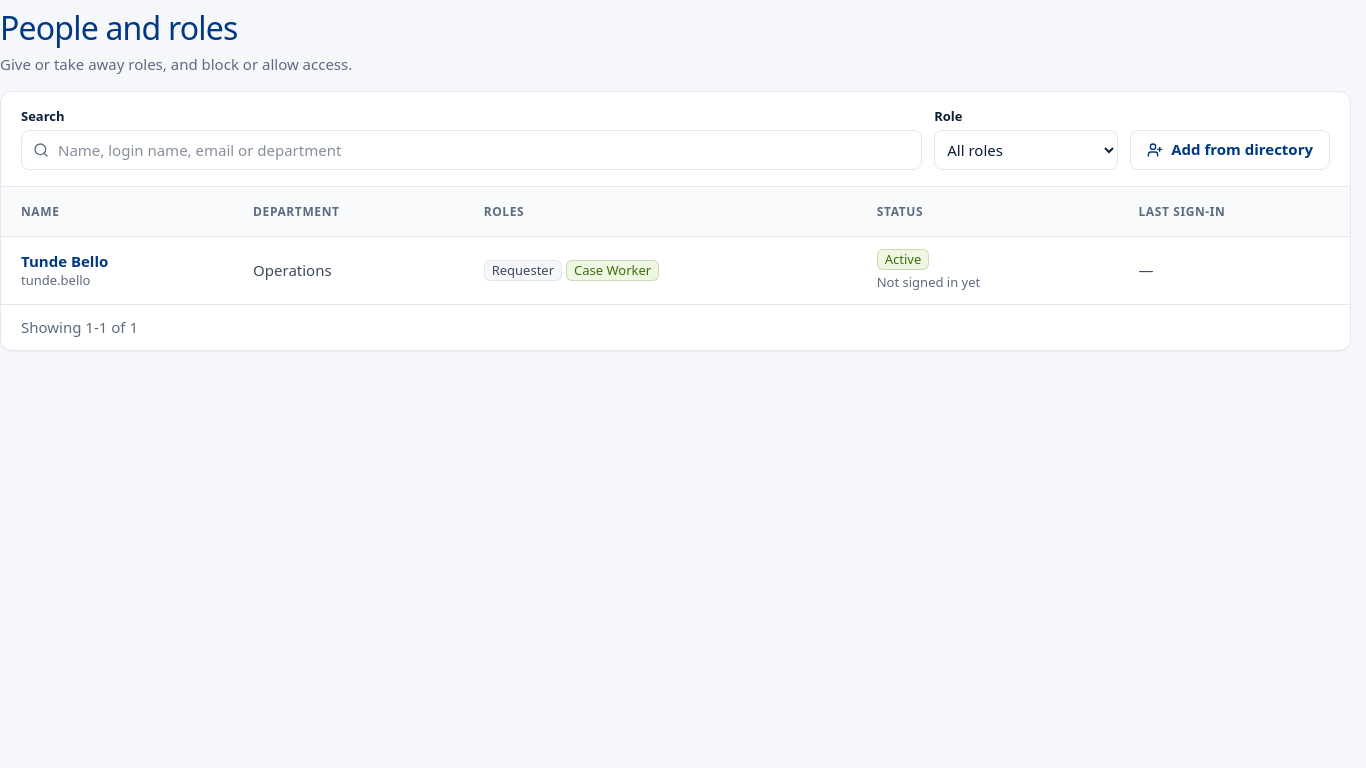
Test case: PeopleRolesPage › shows the directory's 503 message in the add dialog
This screenshot has width=1366, height=768.
Click the button "Add from directory". click: (1230, 150)
box: [1130,130,1330,170]
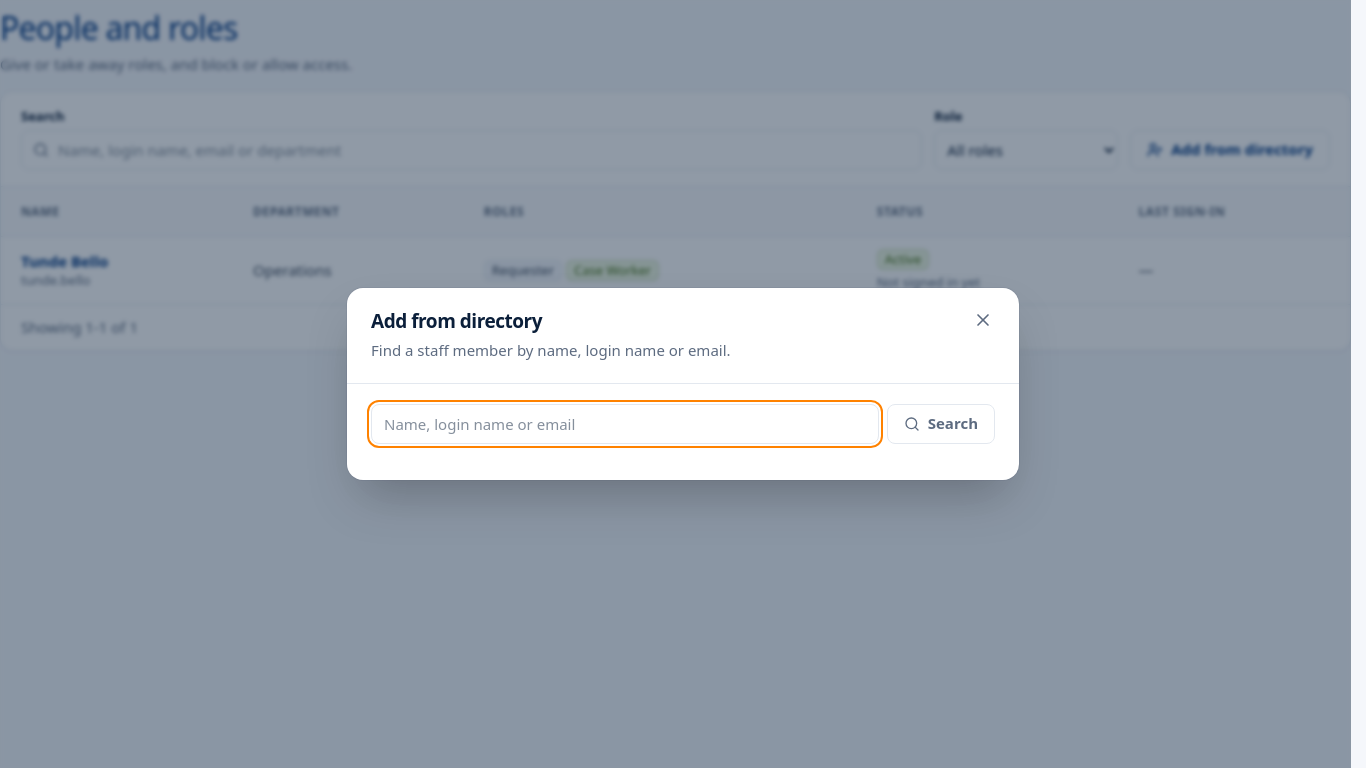
Type "ada" into the search field named "Search the directory". click: (625, 424)
box: [371,404,879,444]
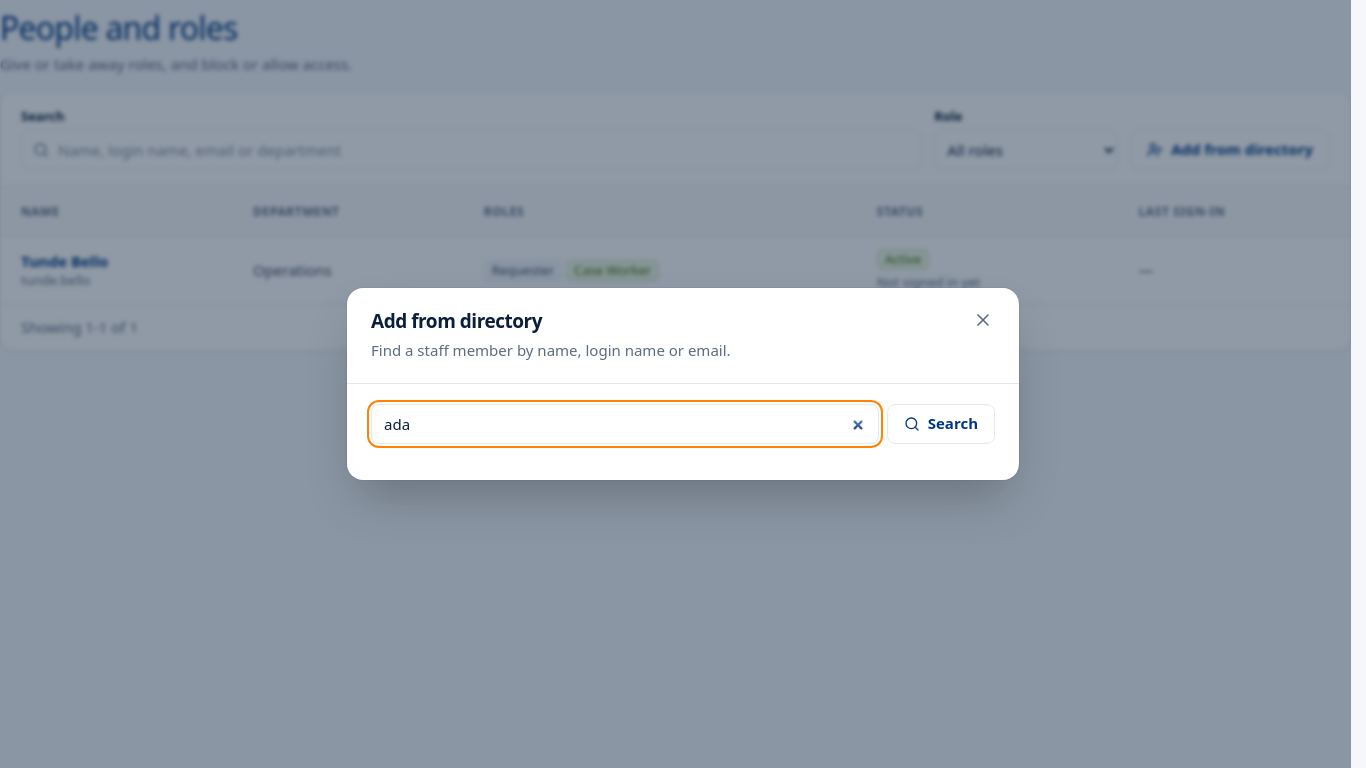
Click the button "Search". click: (941, 424)
box: [887,404,995,444]
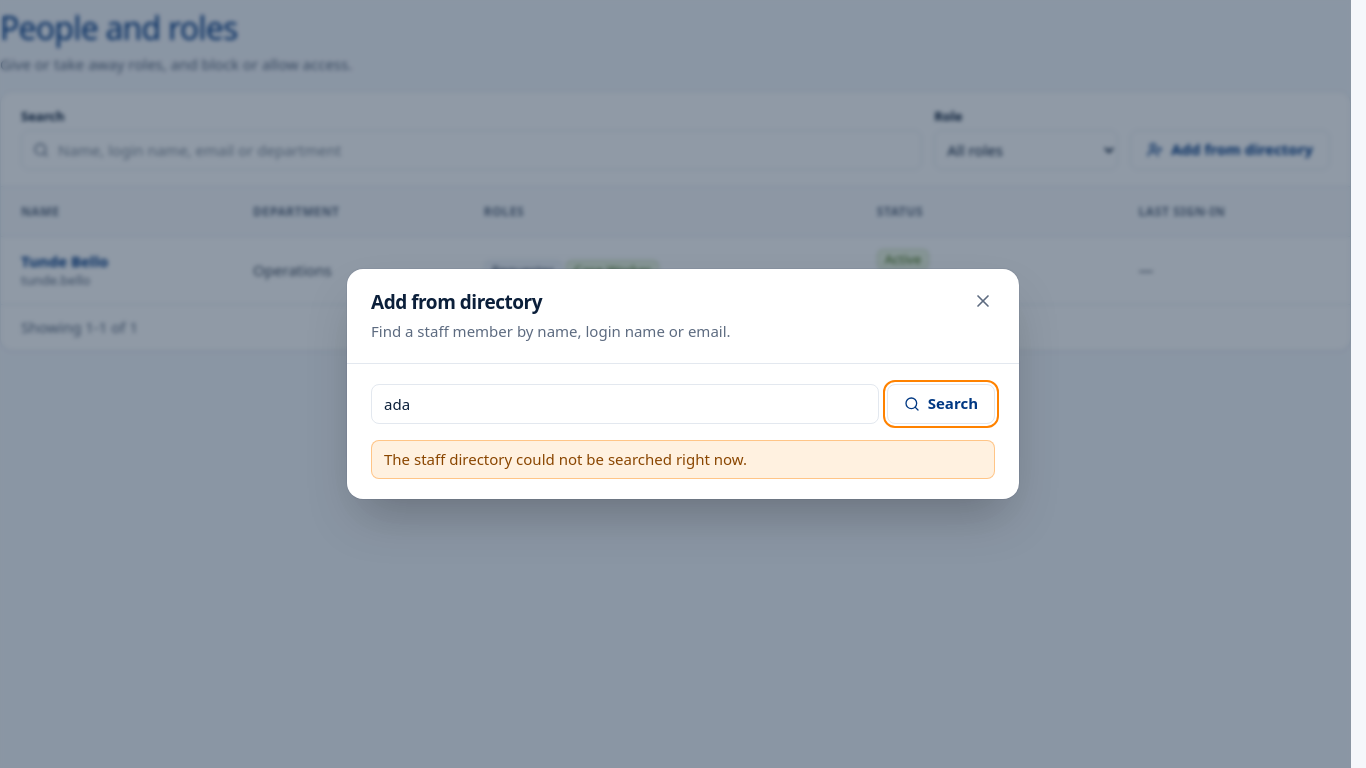
Result: the message reads "The staff directory could not be searched right now." at [384,449,747,469]
